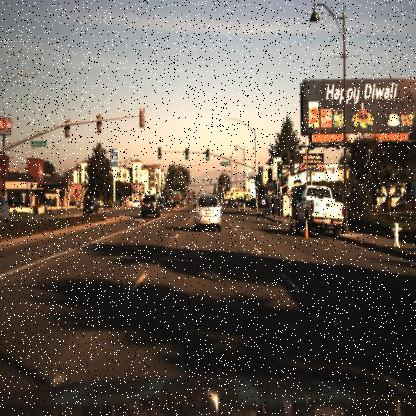car: (291, 182, 347, 236), (292, 180, 344, 231), (191, 191, 223, 232), (136, 190, 161, 219), (78, 195, 102, 219), (128, 197, 142, 209)
trafficLight: (156, 144, 164, 160)
trafficLight-Green: (276, 159, 284, 178), (204, 148, 210, 163), (204, 148, 210, 162), (185, 146, 190, 162), (183, 148, 188, 162), (255, 174, 260, 188), (280, 164, 284, 180), (255, 176, 260, 188)
